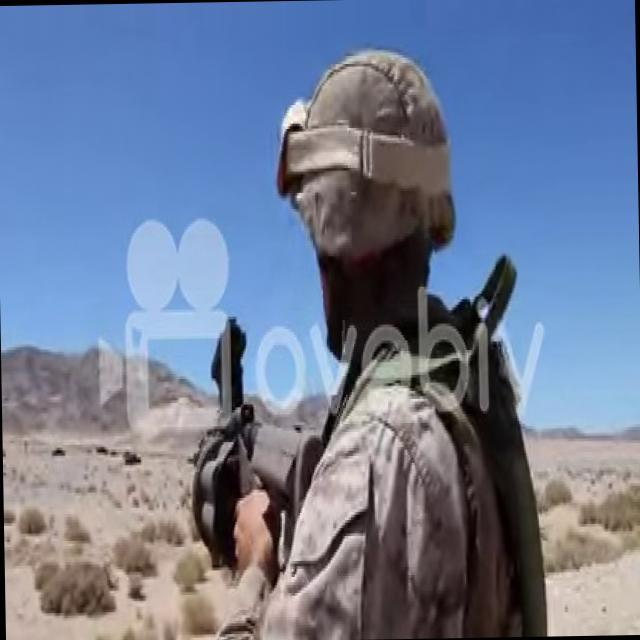rocket: (187, 309, 321, 573)
